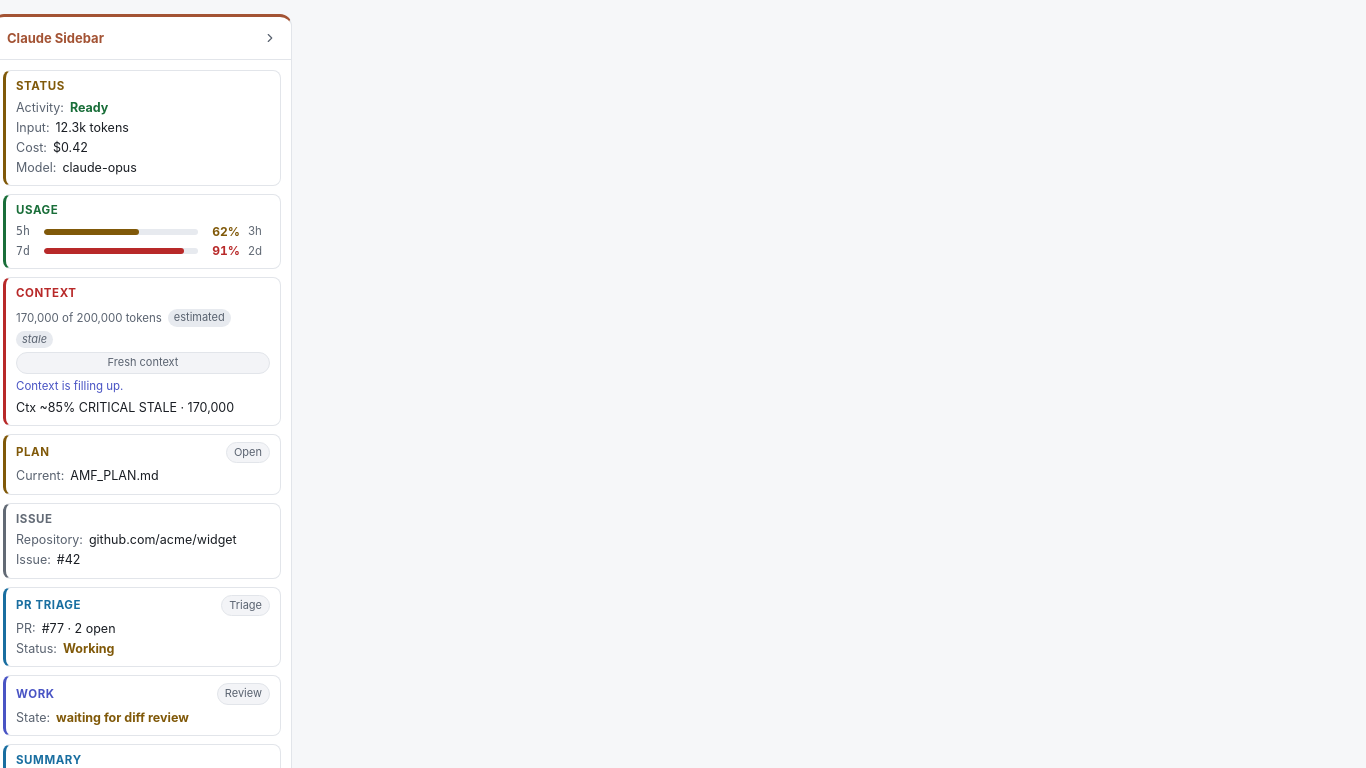
Scenario: session sidebar › reads the current plan in a dialog and reports a missing one
Click the button "Open" at (248, 453), box 226,442 -> 270,464
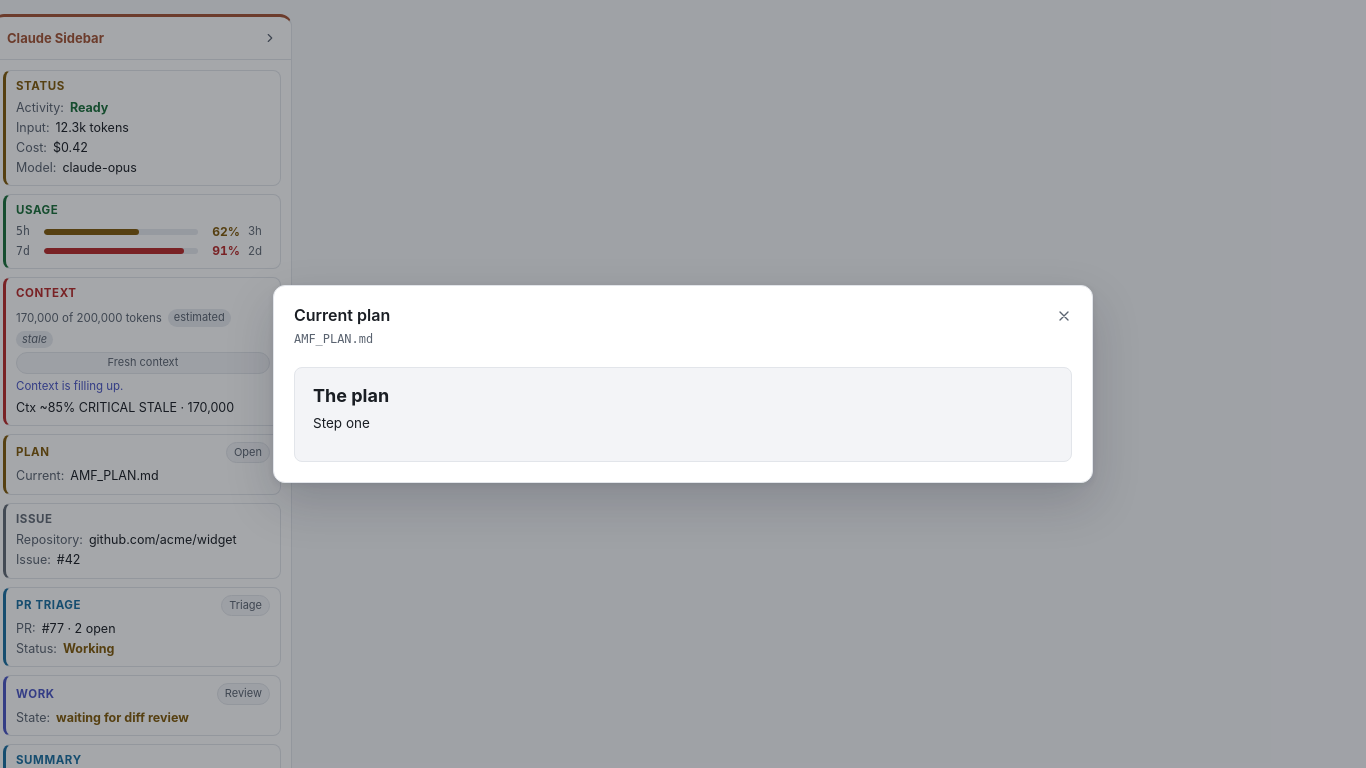
Now the text "Step one" is shown, box 313,415 -> 370,431
Now the text "AMF_PLAN.md" is shown, box 294,332 -> 373,346
Click the button named "Close" at (1064, 316), box 1048,300 -> 1080,332
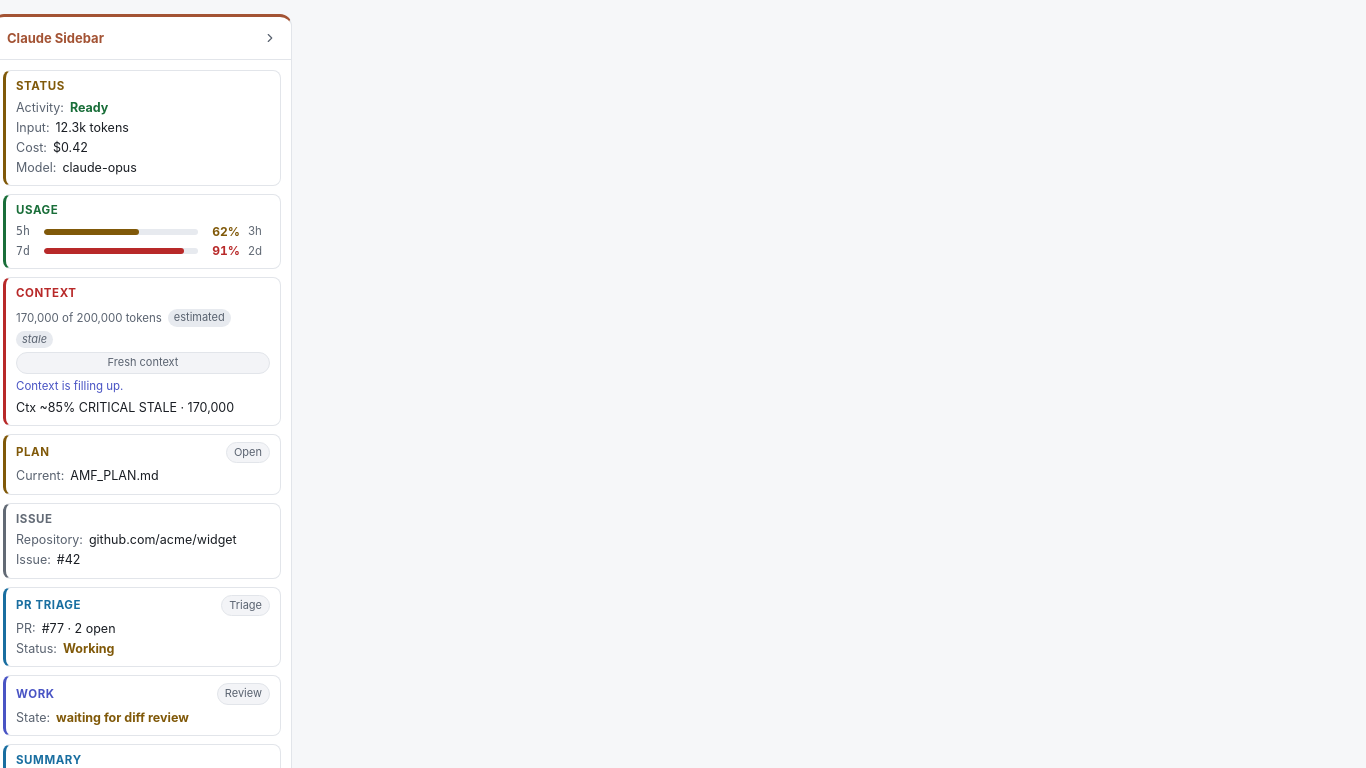
Click the button "Open" at (248, 453), box 226,442 -> 270,464
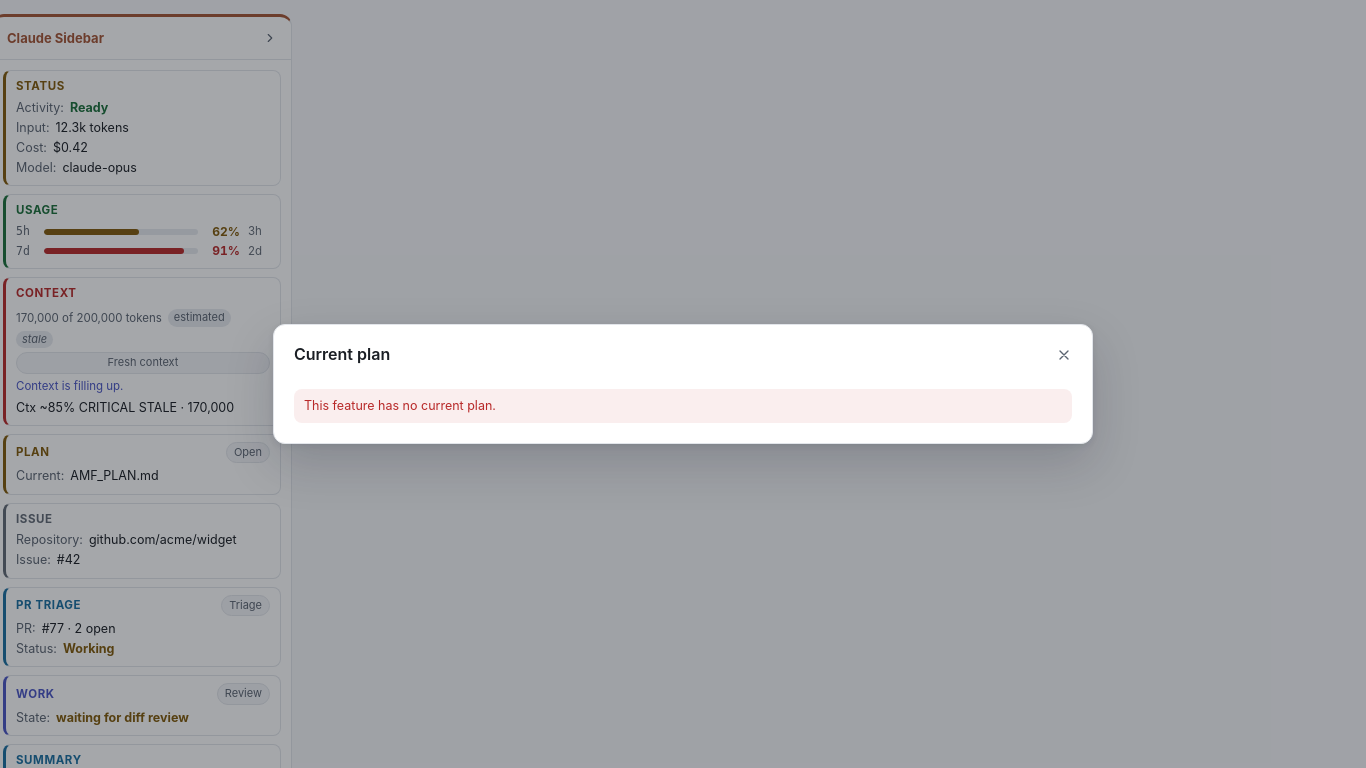
Now the text "This feature has no current plan." is shown, box 294,389 -> 1072,423
